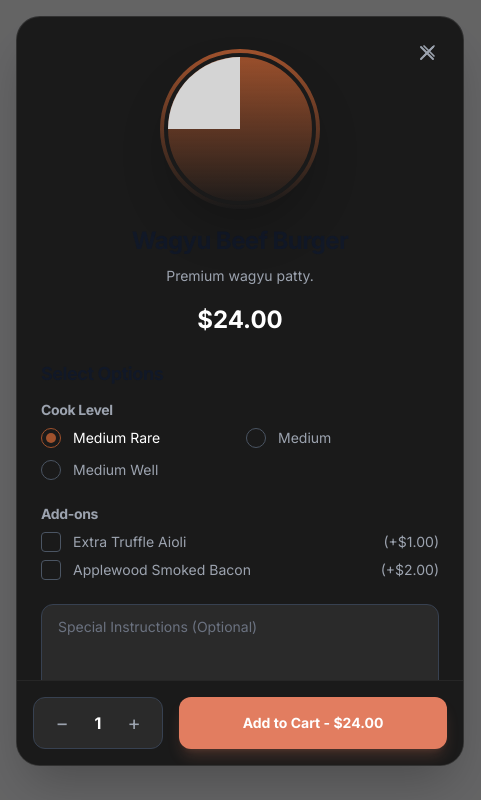
Scenario: ItemDetail Component › updates price when adding priced options
The image size is (481, 800).
Expected: the button "Add to Cart - $24.00" is shown, x1=179 y1=697 x2=447 y2=749
// Click addon with price 2.00
Click the text "Applewood Smoked Bacon".
click(162, 569)  # box x1=73 y1=561 x2=251 y2=578
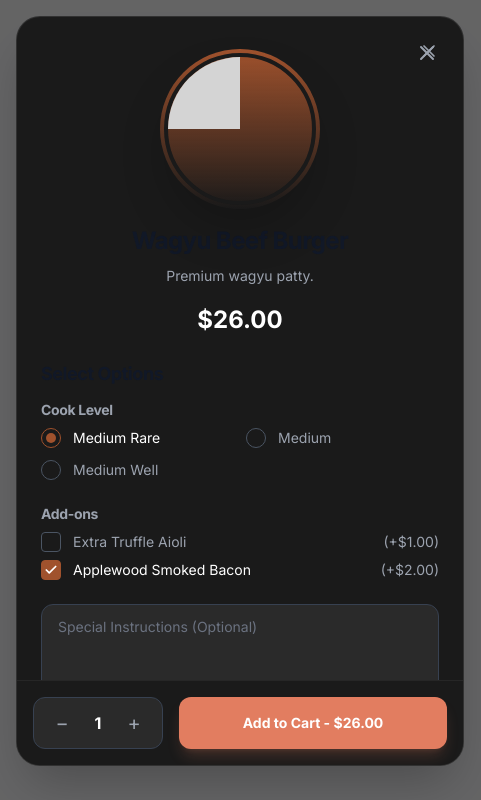
Expected: the button "Add to Cart - $26.00" is shown, x1=179 y1=697 x2=447 y2=749
